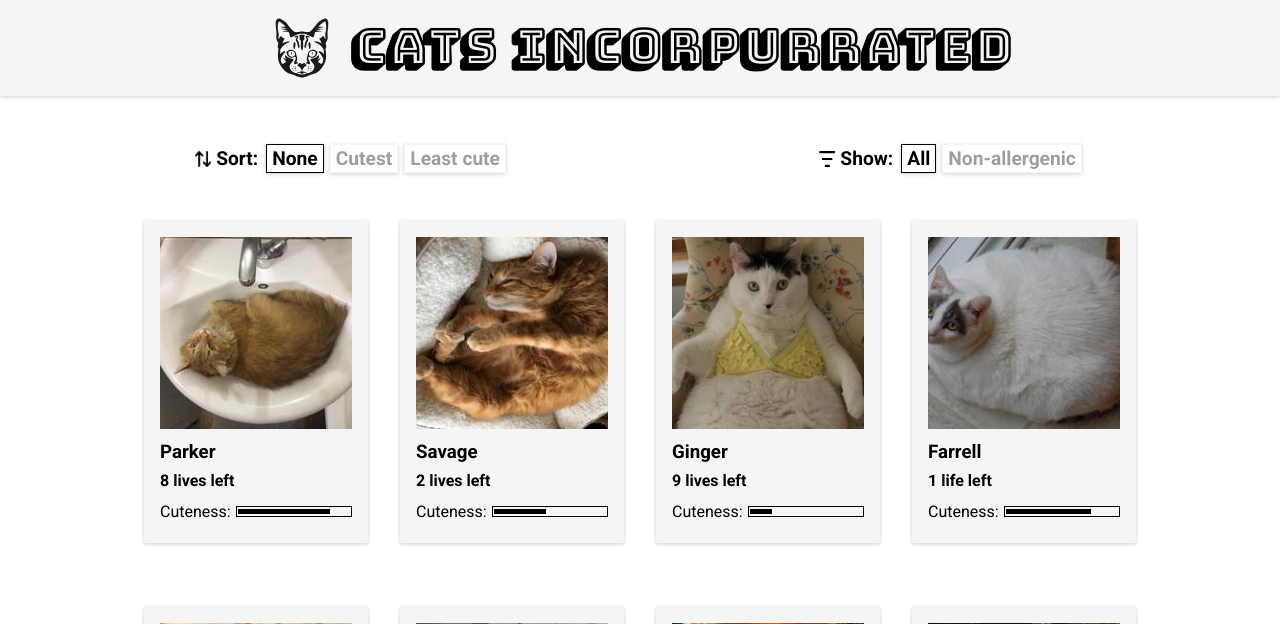
Test case: App integration › initally shows all 24 cats, then filters out 13 cats when "Non-allergenic" button is pressed
Click the list item "Non-allergenic": point(1012, 159) [942,144,1082,173]
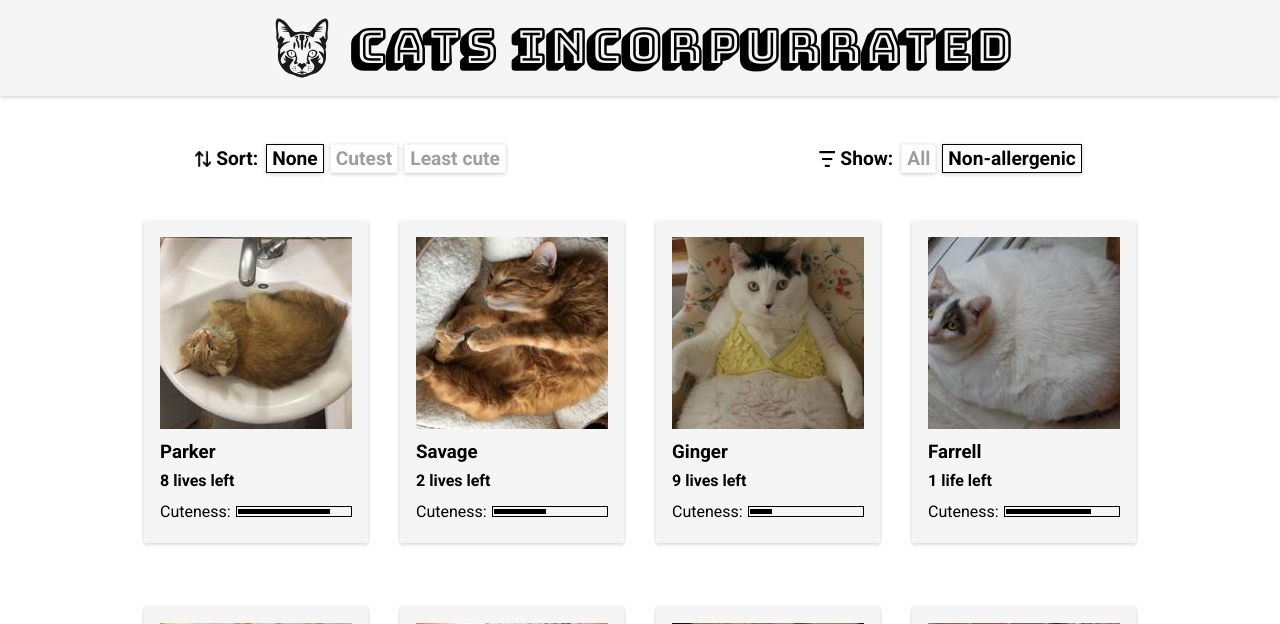
Expected: the number of list items named "cat" is 13
